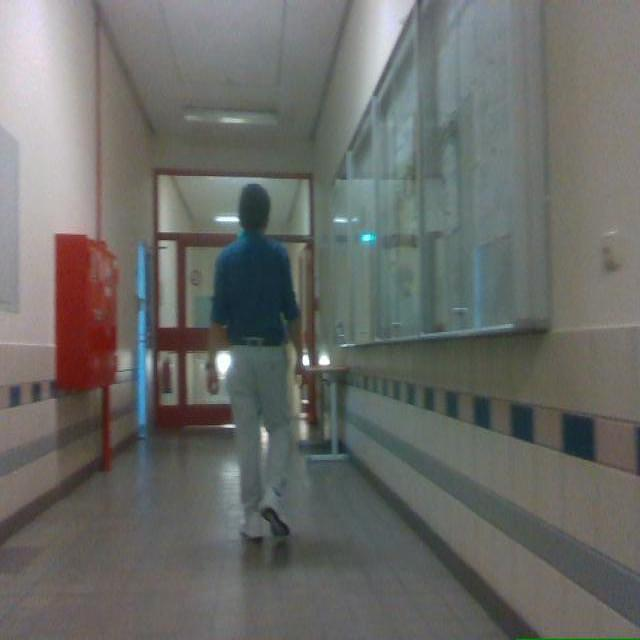humans: (208, 184, 301, 539)
